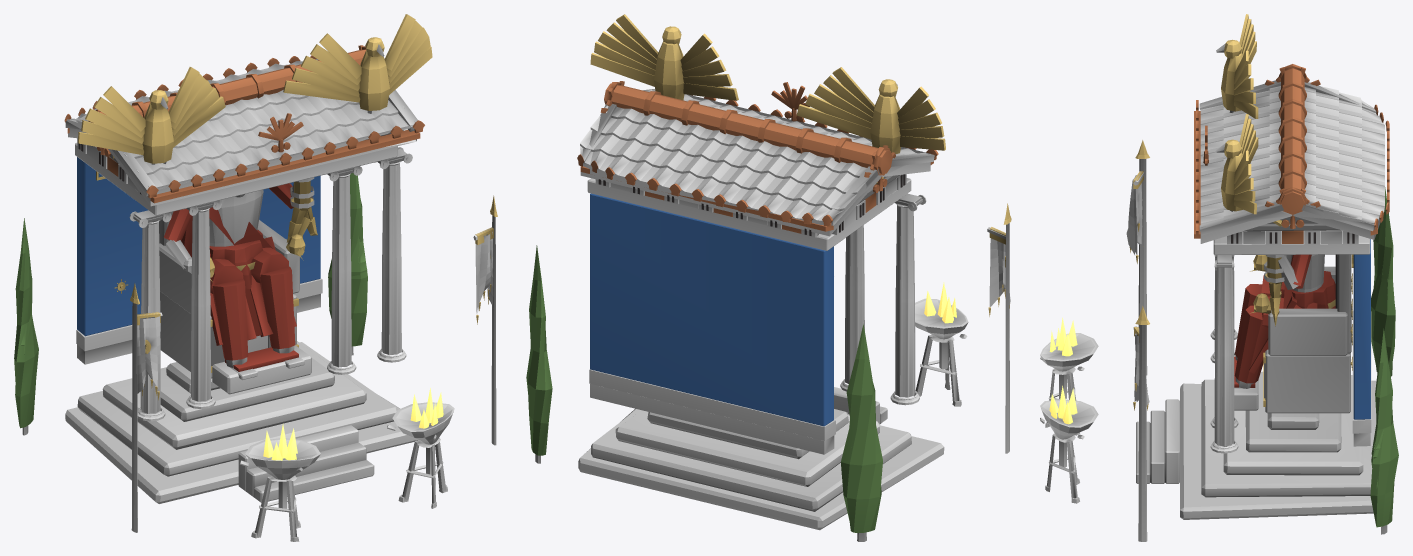
The model's file is throne-of-zeus-l2.glb.
3 renders of one model, left to right at view 1: azimuth 30°, elevation 25°; view 2: azimuth 150°, elevation 25°; view 3: azimuth 270°, elevation 25°, orthographic. The views are drawn at different scales.
Visible parts, largest first — view 1: throne-of-zeus-l2; view 2: throne-of-zeus-l2; view 3: throne-of-zeus-l2.
Boxes of the visible parts, left/top/right/bottom form: throne-of-zeus-l2: left=14, top=14, right=497, bottom=541; throne-of-zeus-l2: left=526, top=14, right=1011, bottom=541; throne-of-zeus-l2: left=1040, top=14, right=1398, bottom=541.
Bounding box in the file's own units: 1.47 × 1.53 × 1.32.
